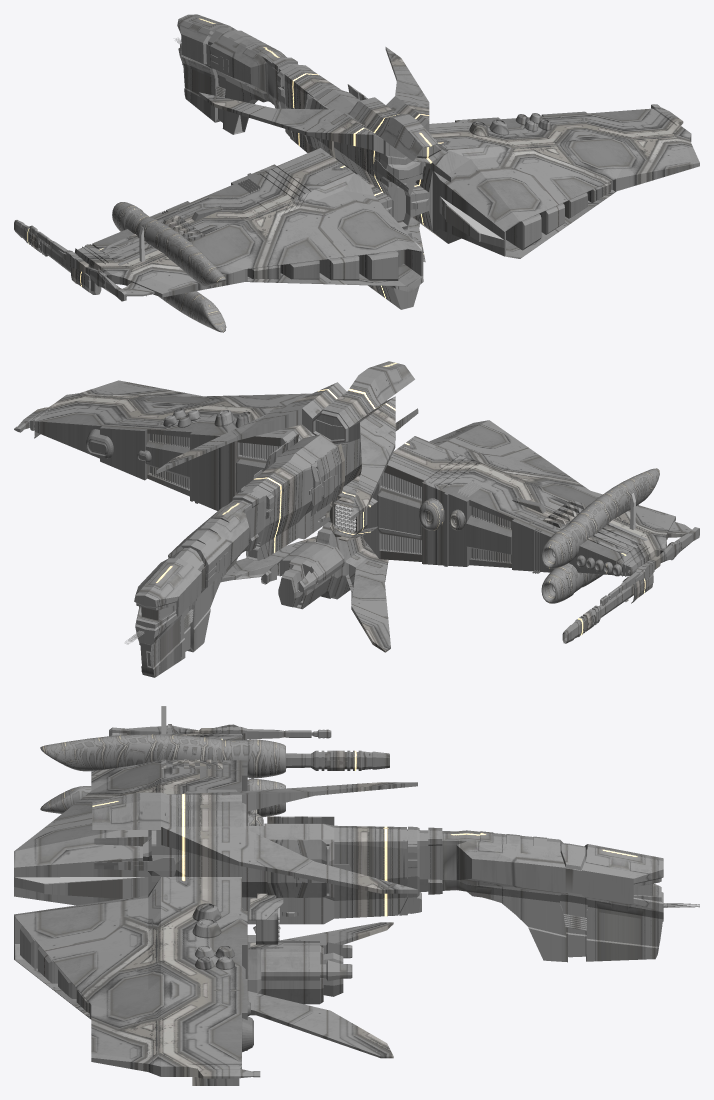
File: Tank1.fbx
The picture shows the model from 3 angles, top to bottom: view 1: azimuth 30°, elevation 25°; view 2: azimuth 150°, elevation 25°; view 3: azimuth 270°, elevation 25°; orthographic projection. The views are drawn at different scales.
Visible parts, largest first — view 1: MINE SHIP, Drive unit SCB II, Matter gen unit Sc1, P sc cannon, SIDeShield GEn UII L; view 2: MINE SHIP, Drive unit SCB II, SIDeShield GEn UII L, Matter gen unit Sc1, P sc cannon, SCA DII jammhouse L; view 3: MINE SHIP, Drive unit SCB II, SIDeShield GEn UII R, P sc cannon, SCA DII jammhouse R.
Boxes of the visible parts, bbox=[...] form: MINE SHIP: bbox=[29, 14, 699, 309]; Drive unit SCB II: bbox=[84, 202, 226, 332]; Matter gen unit Sc1: bbox=[99, 205, 224, 265]; P sc cannon: bbox=[14, 220, 101, 294]; SIDeShield GEn UII L: bbox=[292, 94, 335, 158]; MINE SHIP: bbox=[14, 361, 699, 677]; Drive unit SCB II: bbox=[419, 468, 659, 603]; SIDeShield GEn UII L: bbox=[309, 444, 344, 516]; Matter gen unit Sc1: bbox=[512, 497, 647, 555]; P sc cannon: bbox=[562, 573, 653, 643]; SCA DII jammhouse L: bbox=[318, 488, 377, 541]; MINE SHIP: bbox=[14, 724, 699, 1085]; Drive unit SCB II: bbox=[40, 734, 285, 825]; SIDeShield GEn UII R: bbox=[267, 839, 351, 897]; P sc cannon: bbox=[286, 750, 389, 770]; SCA DII jammhouse R: bbox=[248, 893, 298, 949].
Bounding box in the file's own units: 6200 × 5200 × 1850.
Materials: 4 (1 with a texture image).
